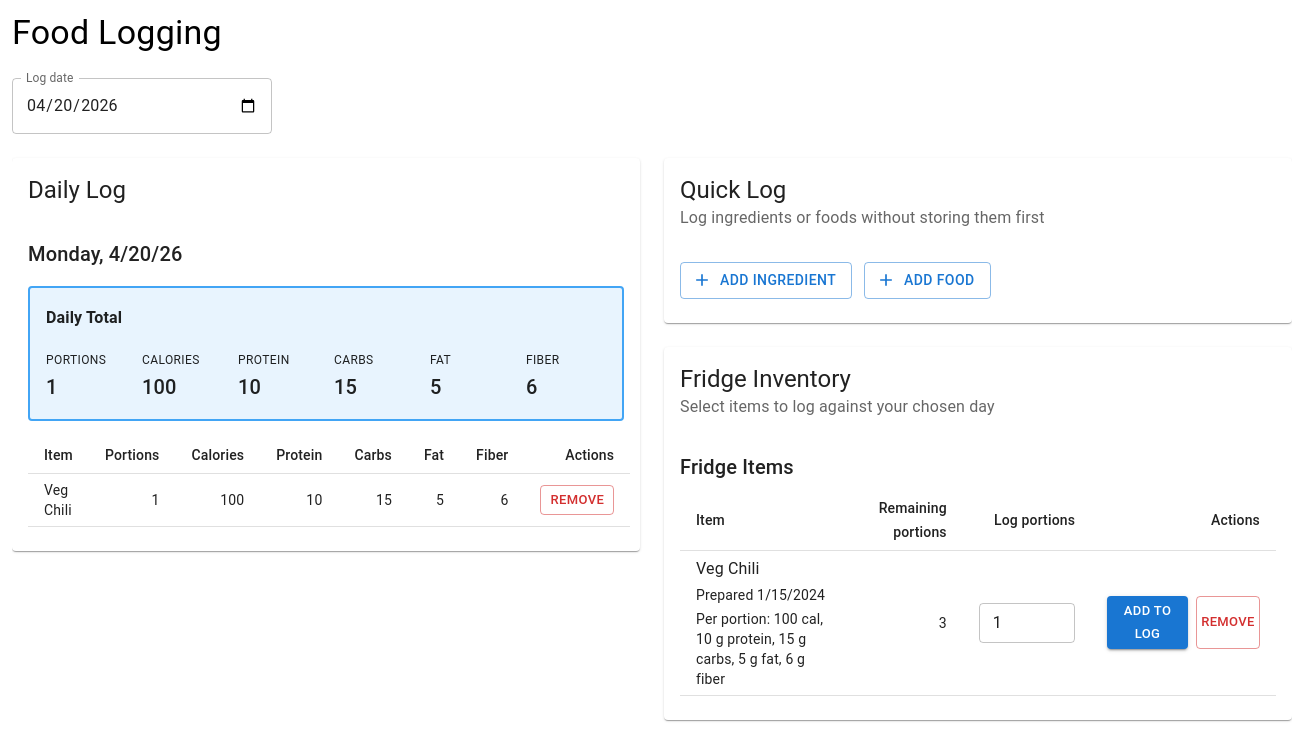
Logging component › removes logged entries and updates the table
Click the 1st button "Remove" at (577, 500), box [540,484,614,515]
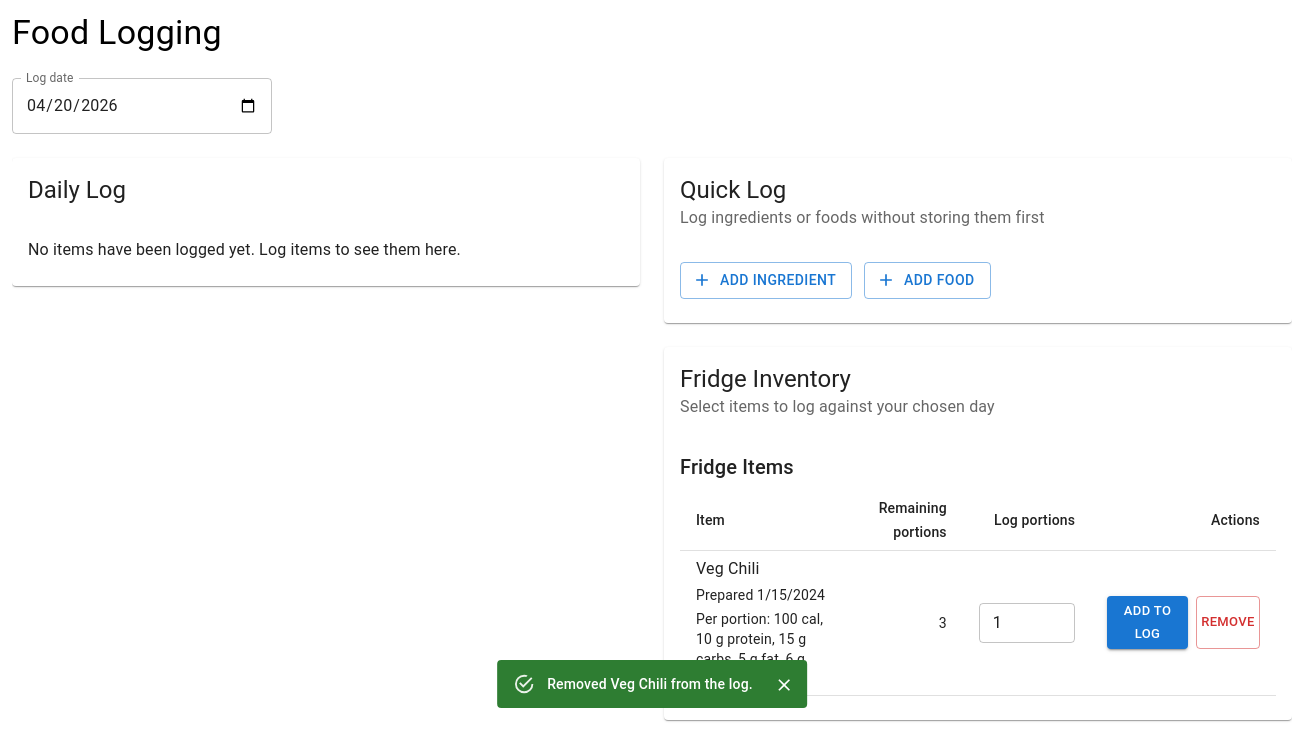
Now the text "Removed Veg Chili from the log." is shown, box [547,676,753,692]
Now the text "No items have been logged yet. Log items to see them here." is shown, box [28,240,461,259]
